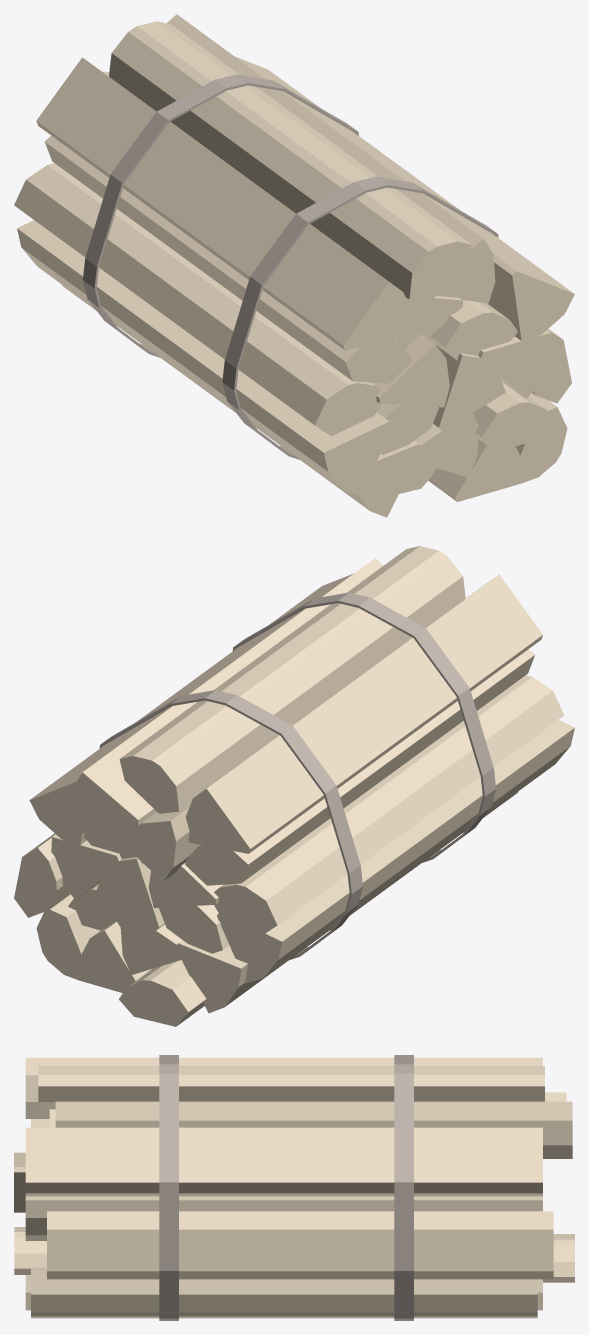
3 renders of one model, top to bottom at view 1: azimuth 30°, elevation 25°; view 2: azimuth 150°, elevation 25°; view 3: azimuth 270°, elevation 25°, orthographic. The views are drawn at different scales.
Visible parts, largest first — view 1: Body; view 2: Body; view 3: Body.
Part boxes in pixels (bbox=[...]): Body: bbox=[14, 14, 574, 517]; Body: bbox=[14, 546, 574, 1026]; Body: bbox=[14, 1055, 574, 1320].
Size of the model in its own units: 18.56 by 16.91 by 39.06.
